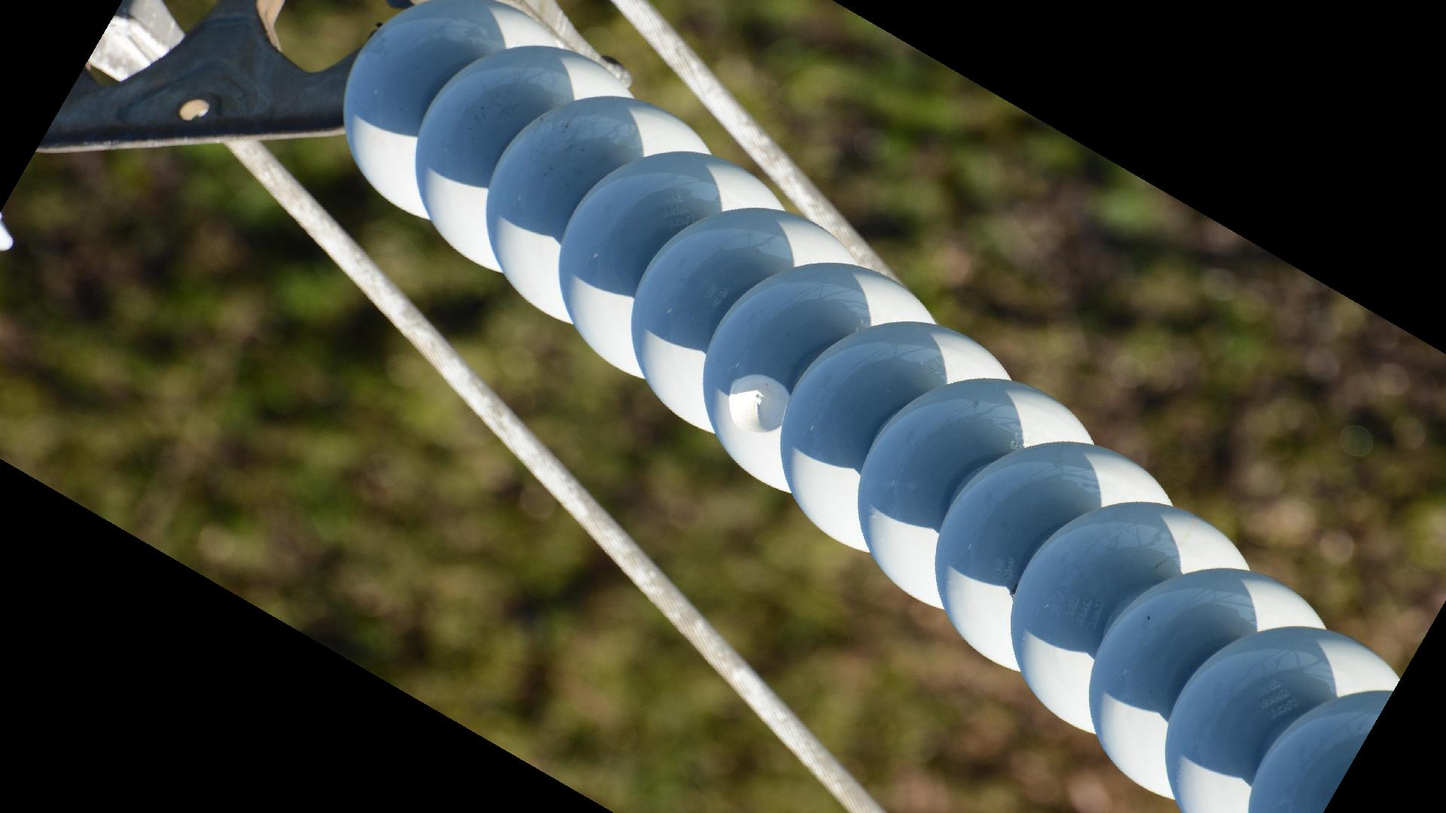insulator: (333, 1, 1402, 813)
insulator_breakage: (718, 364, 796, 448)
